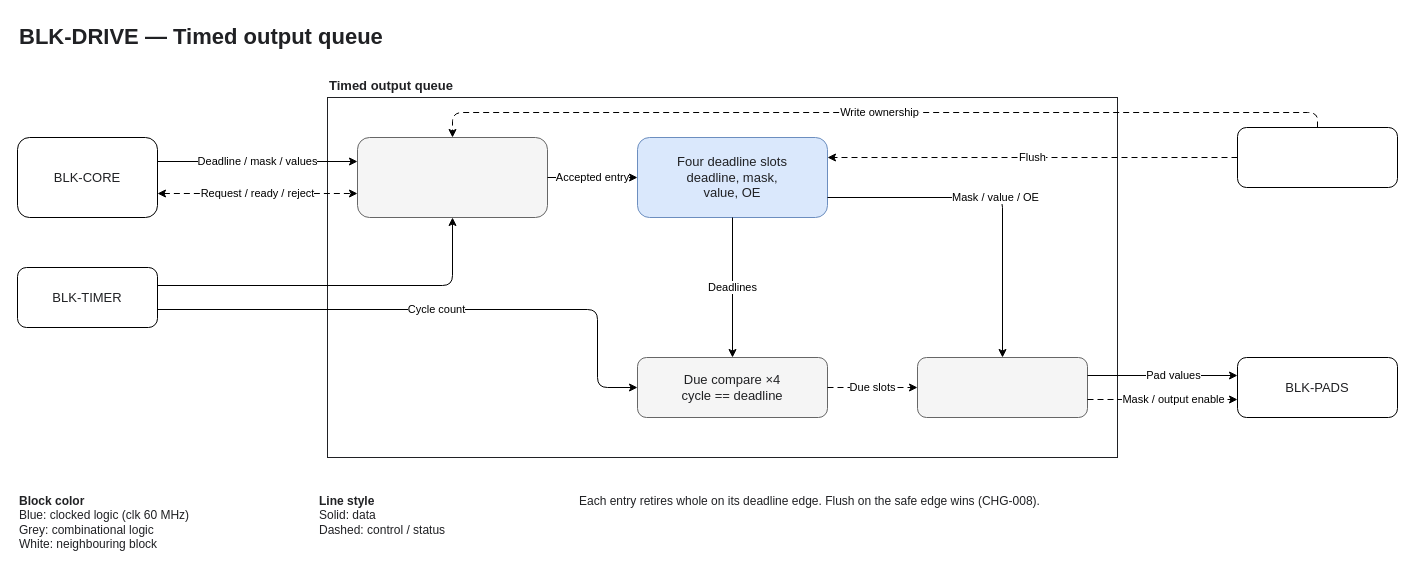
Some shapes in this 1415 by 574 pixel diagram are drawn without their labels. Each missing label, with the centre of its shape:
Admission check owner, empty mask, collision, half range: pixel 452 177
BLK-HOST run control: pixel 1317 157
Merge due entries disjoint masks: pixel 1002 387
